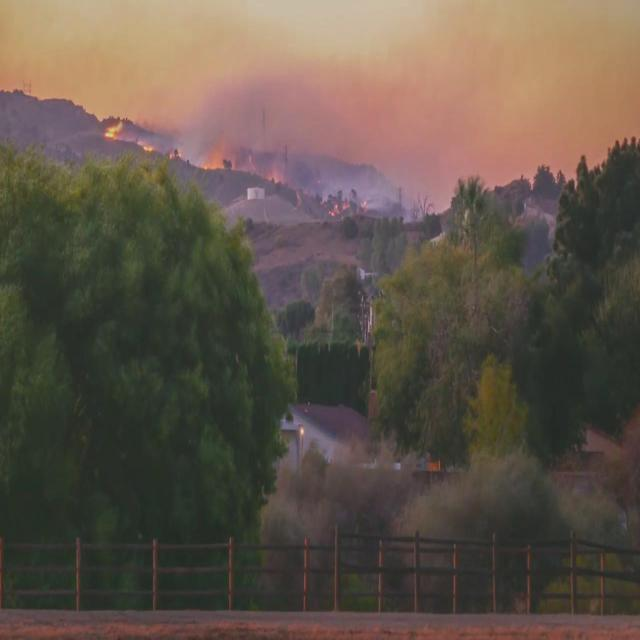Fire: (202, 149, 226, 171), (103, 117, 123, 143), (140, 140, 154, 151), (330, 203, 340, 217)
